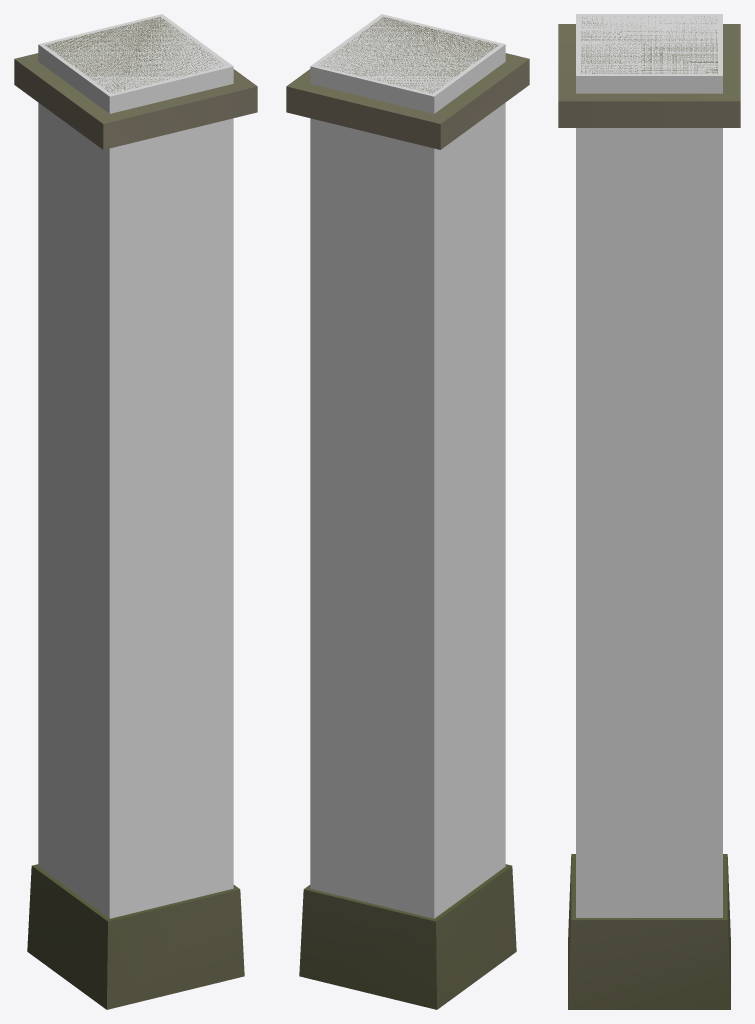
The model's file is pillar.glb.
3 views of the same model, side by side, from view 1: azimuth 30°, elevation 25°; view 2: azimuth 150°, elevation 25°; view 3: azimuth 270°, elevation 25° (orthographic). The views are drawn at different scales.
Parts seen in each view (by area): view 1: COL_pillar, pillar; view 2: COL_pillar, pillar; view 3: COL_pillar, pillar.
Boxes of the visible parts, x1,y1,x2,y2 form: COL_pillar: [38, 14, 233, 918]; pillar: [14, 17, 257, 1009]; COL_pillar: [310, 14, 505, 918]; pillar: [286, 16, 529, 1009]; COL_pillar: [576, 14, 722, 917]; pillar: [558, 16, 740, 1009].
Bounding box in the file's own units: 1.12 × 6.3 × 1.12.
